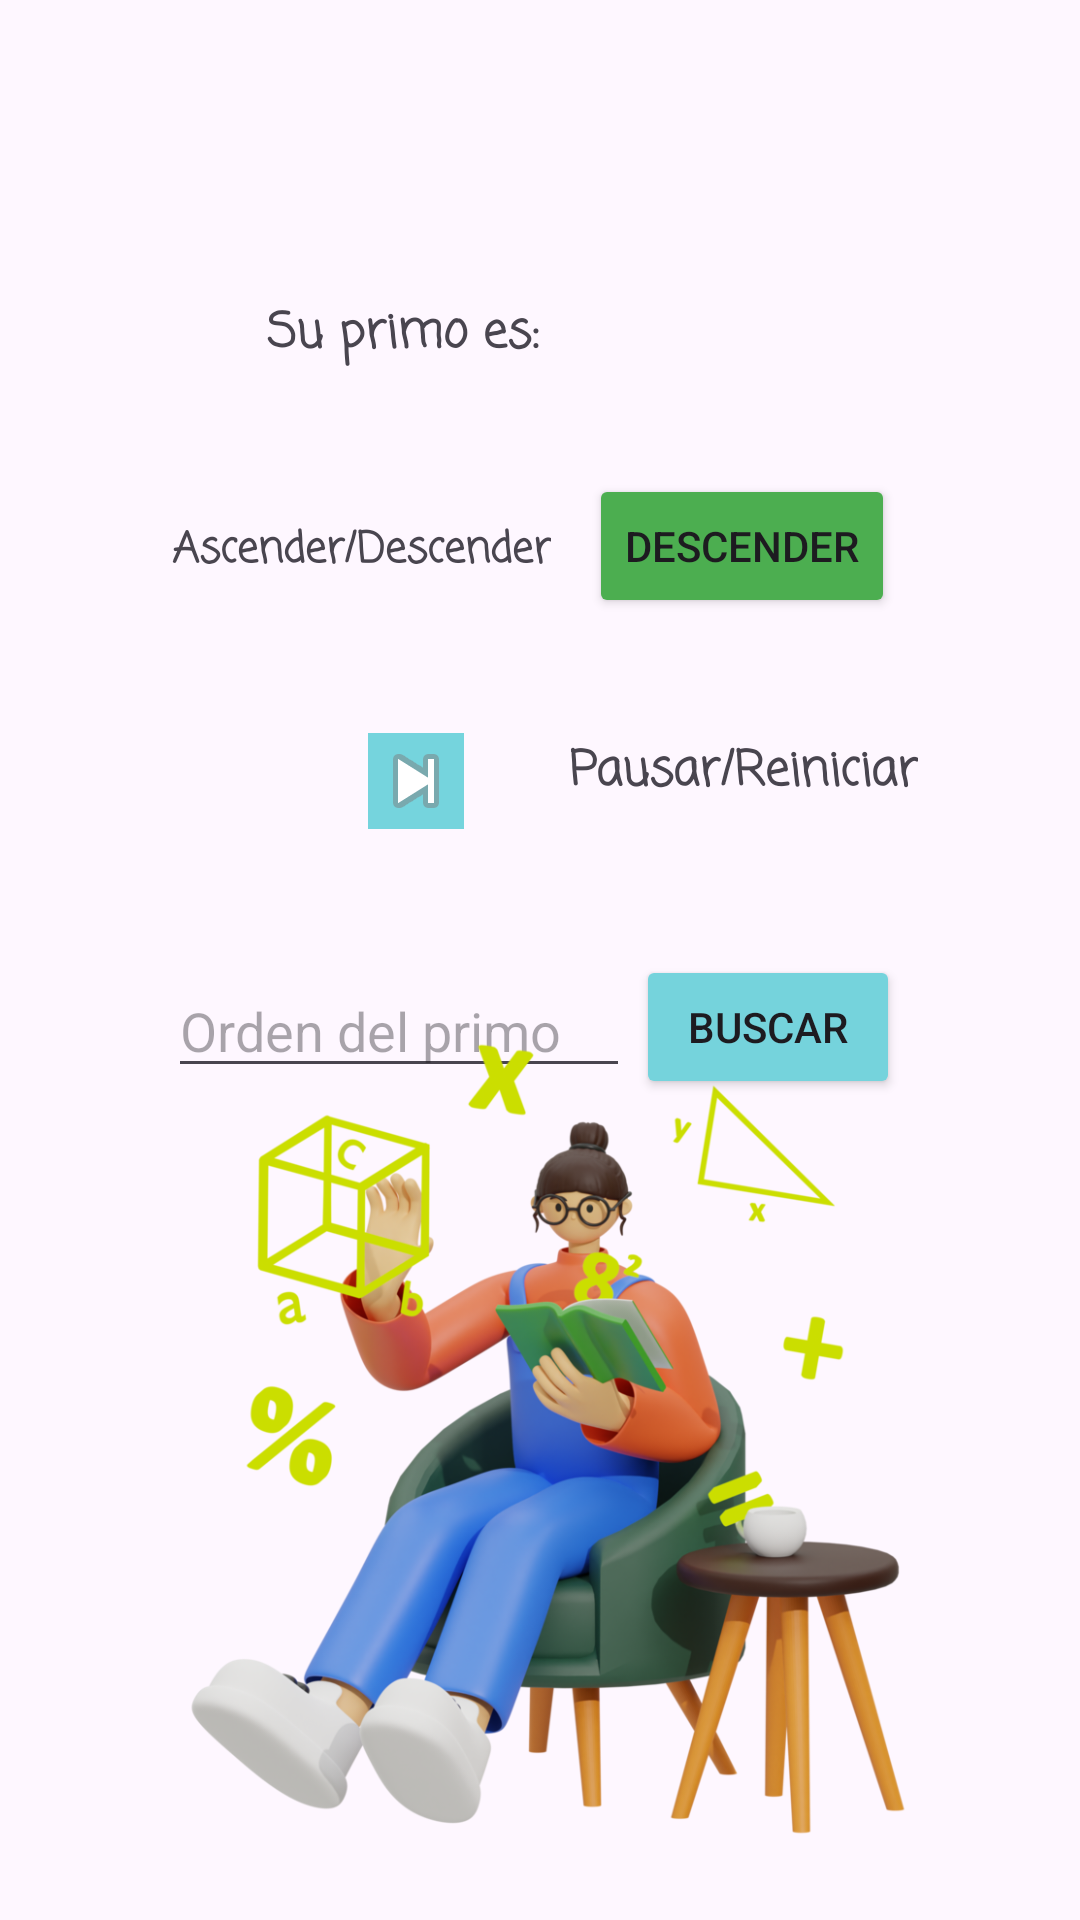

Named icons in this screenshot (1080*1920) and their centers, (x,y):
next: (416,781)
